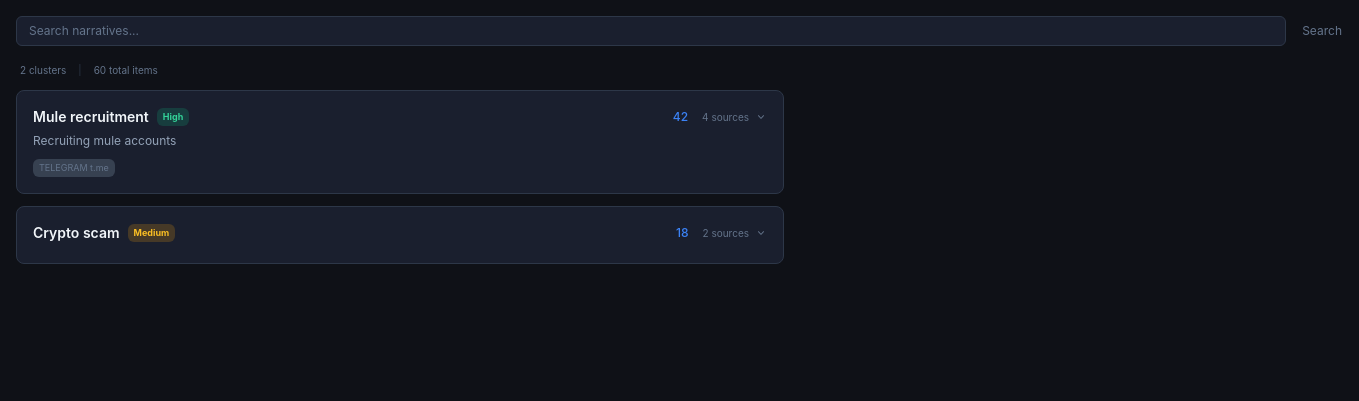
it: ClusterBrowser › expands cluster to show drilldown content on click
Click the heading "Mule recruitment" at (91, 117), box [33, 107, 149, 127]
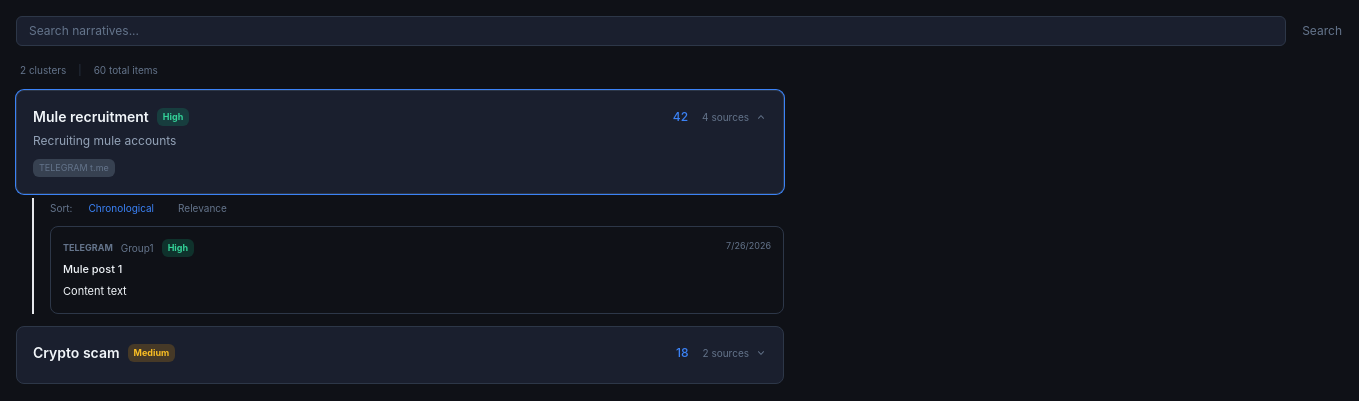
Expected: the text "Mule post 1" is shown, [63, 262, 122, 276]
